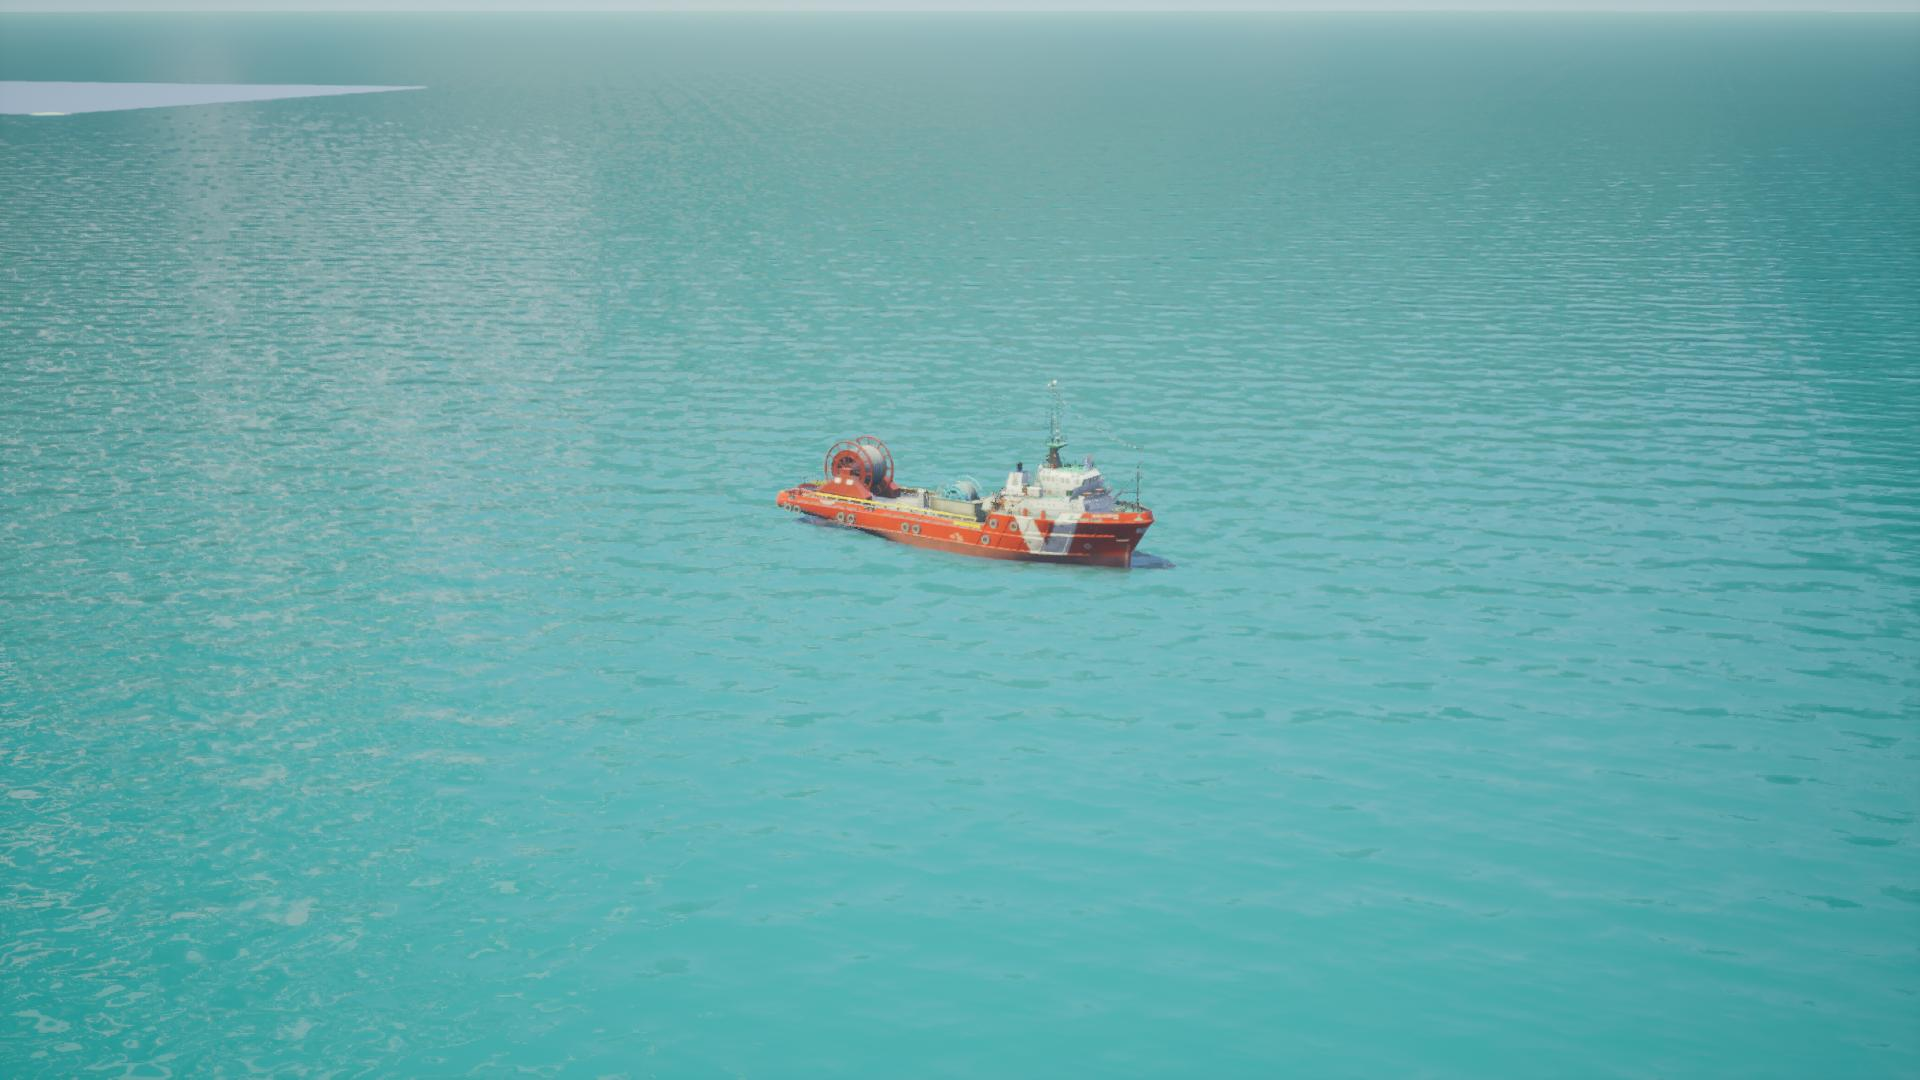Tug Boat: (778, 394, 1162, 576)
